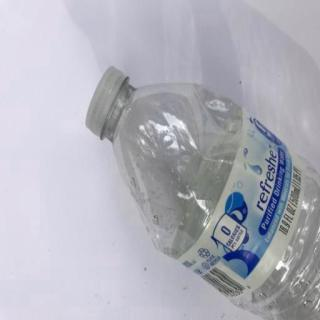Plastic-bottle: (83, 65, 320, 320)
